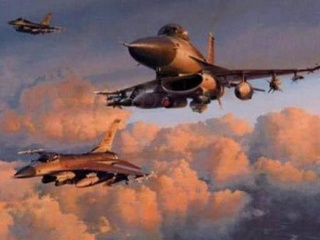airplane: (91, 23, 320, 113), (7, 117, 152, 190), (3, 13, 68, 40)
